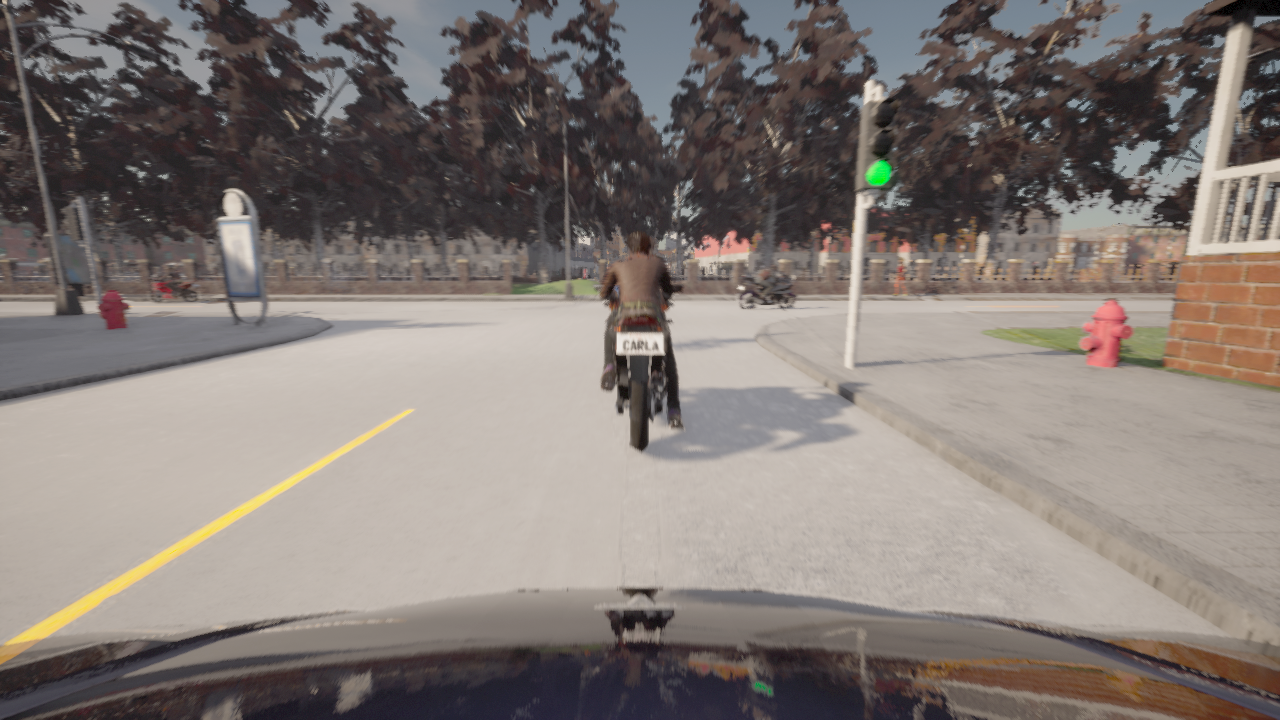cyclist: (0, 588, 1279, 719), (594, 285, 683, 451), (738, 273, 796, 309), (149, 275, 199, 302)
pedestrian: (893, 258, 906, 295), (615, 282, 619, 292)
